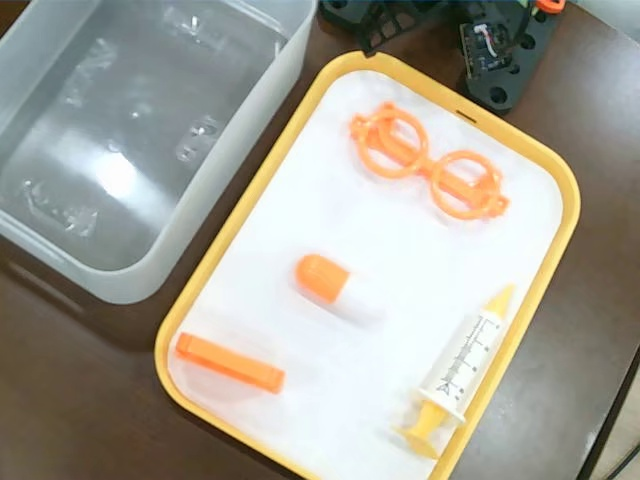pill: (293, 248, 392, 324)
syringe: (392, 279, 519, 464)
